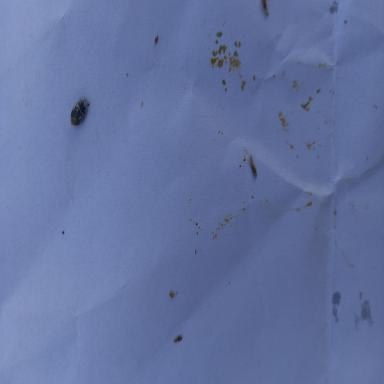pbw: (248, 156, 257, 178)
